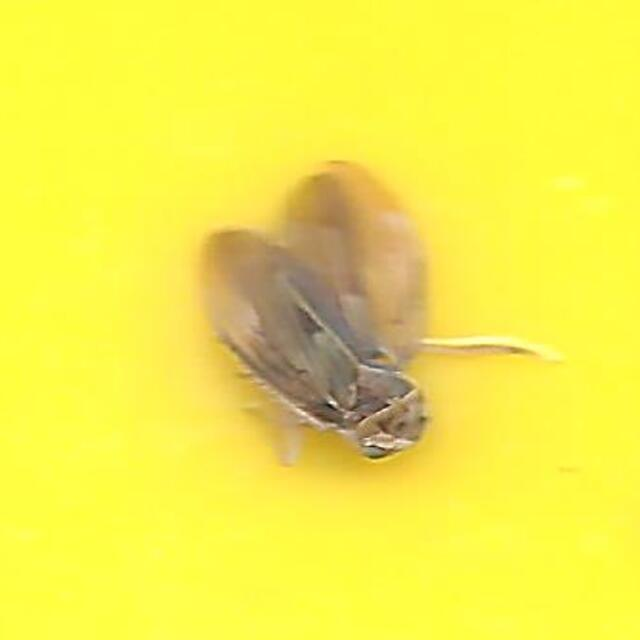Hemiptera: (191, 154, 449, 486)
